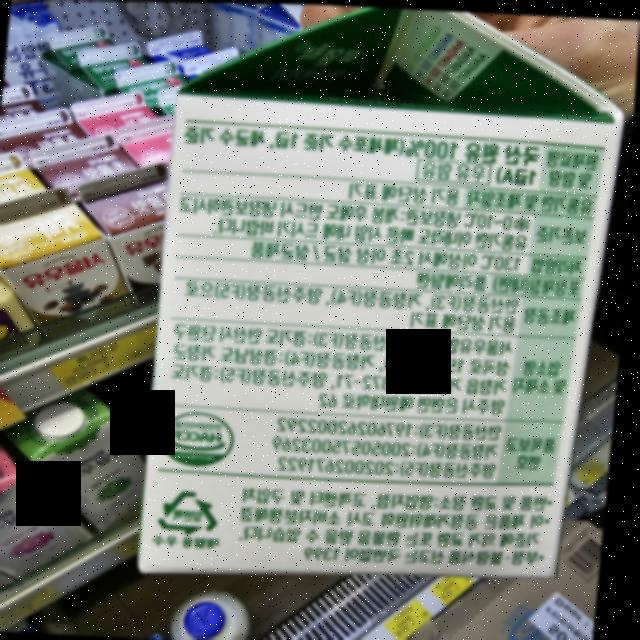NormalPack: (156, 481, 234, 533)
